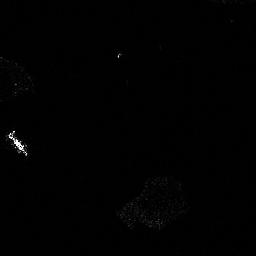ship: (7, 130, 30, 157)
